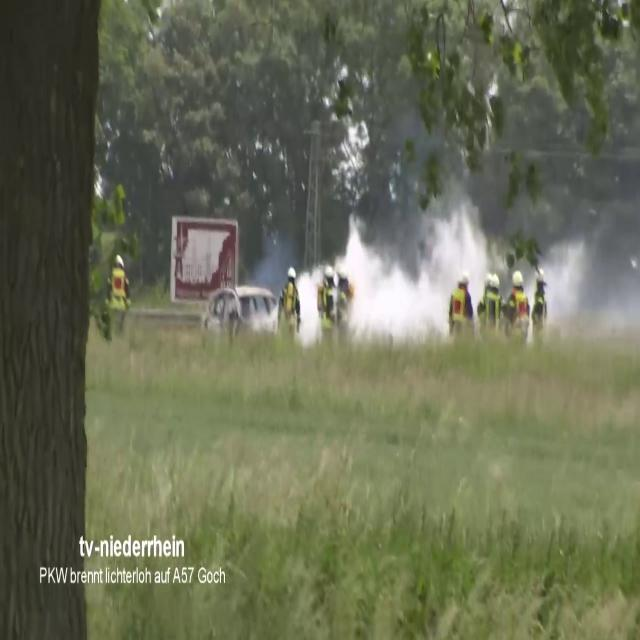Smoke: (346, 175, 494, 346)
